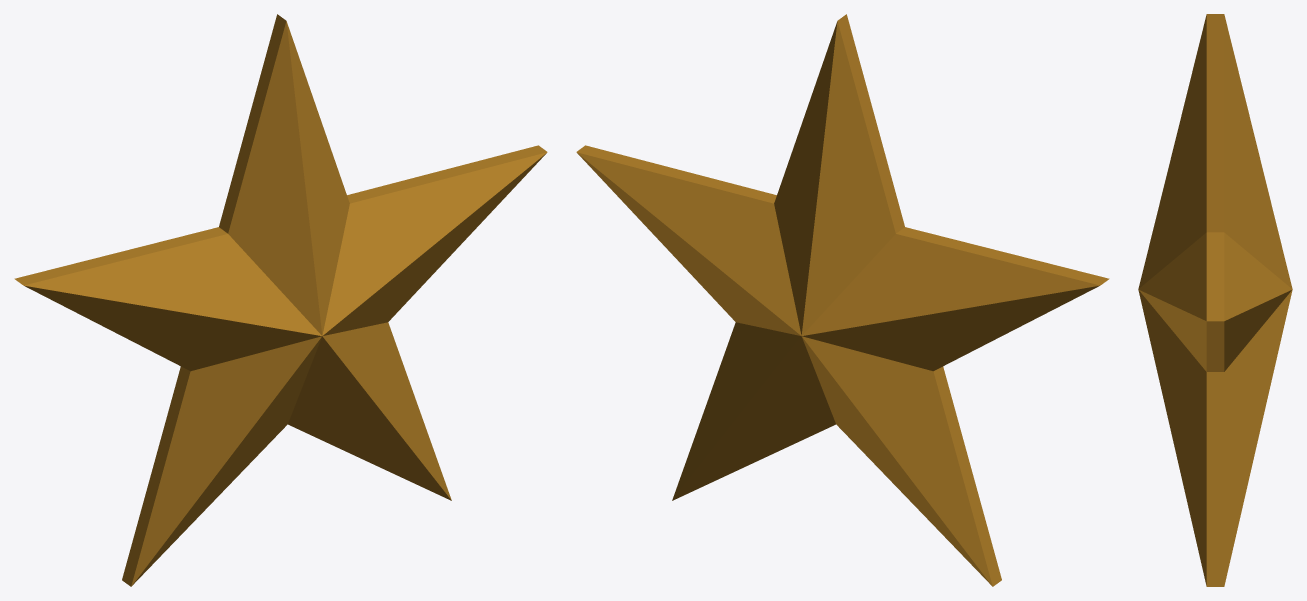
File: star.glb
3 renders of one model, left to right at view 1: azimuth 30°, elevation 25°; view 2: azimuth 150°, elevation 25°; view 3: azimuth 270°, elevation 25°, orthographic. The views are drawn at different scales.
Parts seen in each view (by area): view 1: Star; view 2: Star; view 3: Star.
Part boxes in pixels (x1=…): Star: x1=14, y1=14, x2=547, y2=586; Star: x1=576, y1=14, x2=1109, y2=586; Star: x1=1138, y1=14, x2=1292, y2=586.
Size of the model in its own units: 0.642 by 0.6181 by 0.1718.
